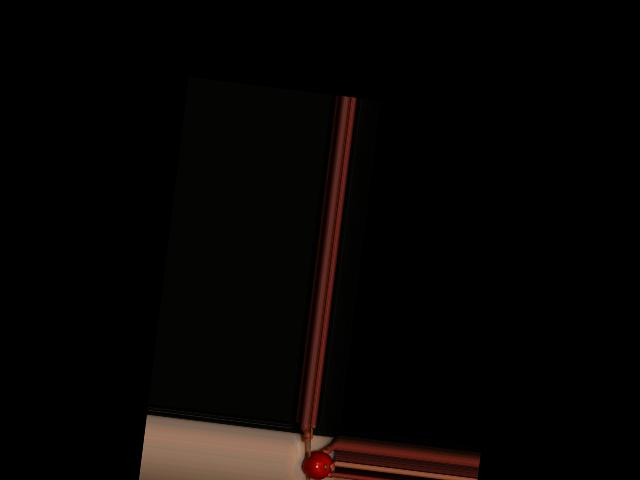tomato: (300, 449, 333, 480)
